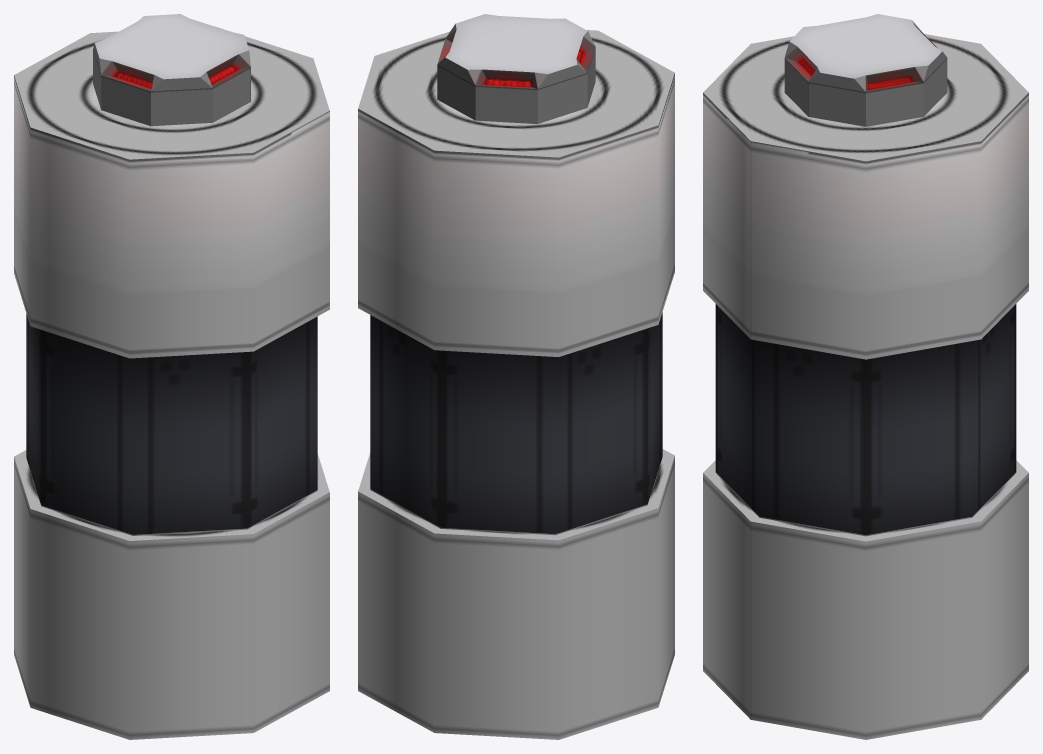
File: SciFiGrenade.FBX
3 views of the same model, side by side, from view 1: azimuth 30°, elevation 25°; view 2: azimuth 150°, elevation 25°; view 3: azimuth 270°, elevation 25° (orthographic).
Visible parts, largest first — view 1: Cylinder001; view 2: Cylinder001; view 3: Cylinder001.
Part boxes in pixels (<box>): Cylinder001: <box>14,14,329,739</box>; Cylinder001: <box>358,14,674,739</box>; Cylinder001: <box>703,14,1028,739</box>.
Size of the model in its own units: 0.0657 by 0.1391 by 0.0657.
Materials: 1 (1 with a texture image).
